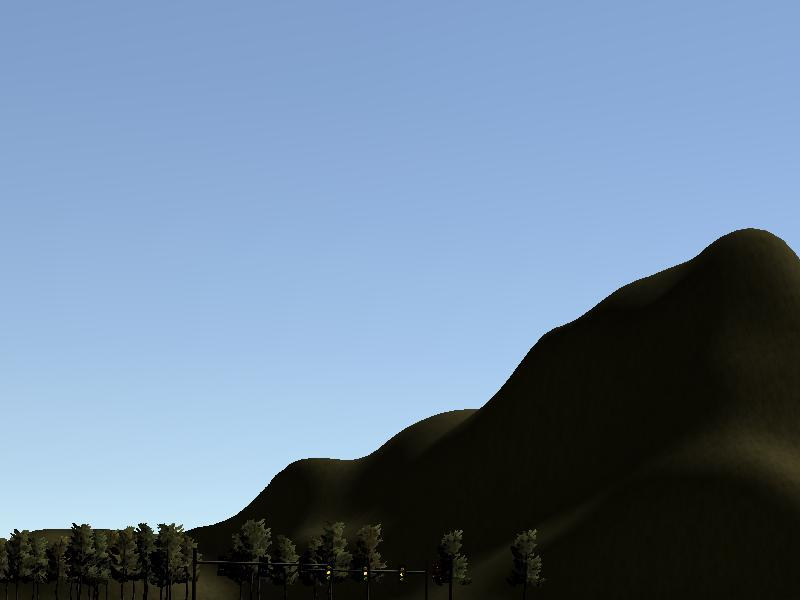Yellow: (362, 564, 371, 585), (398, 565, 406, 585), (325, 565, 333, 584)
